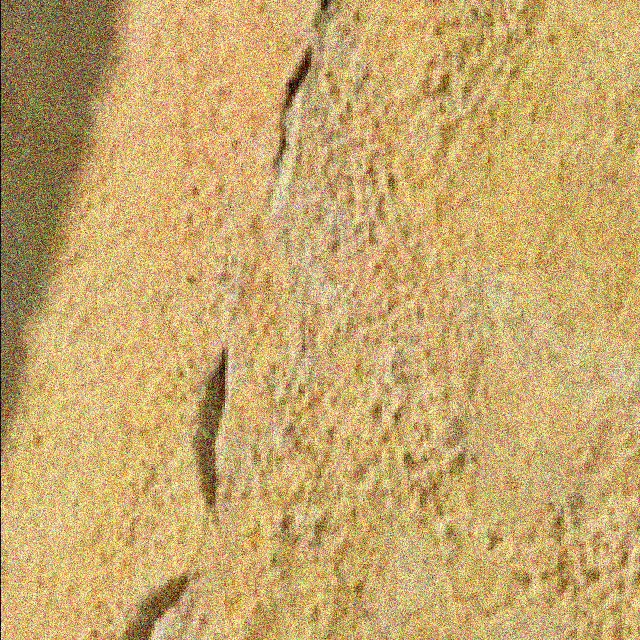SurfaceCrack: (126, 350, 244, 640), (252, 0, 352, 204)
